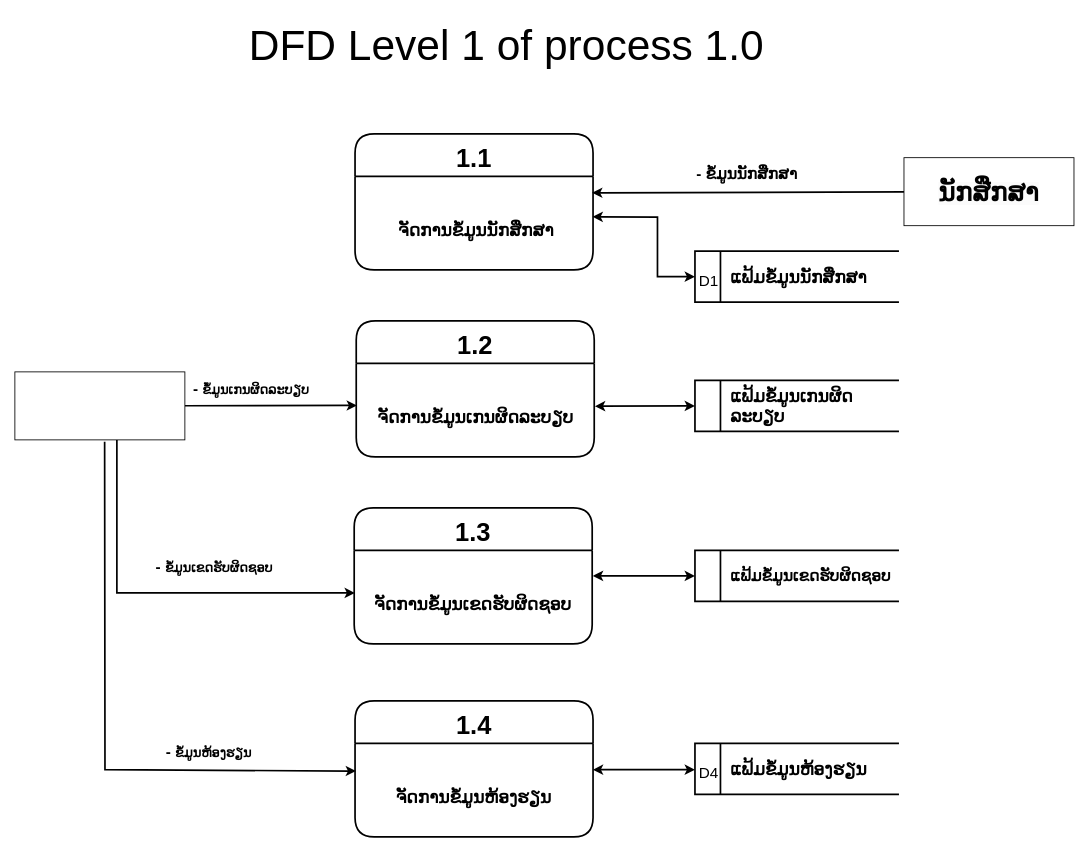
Some shapes in this 1089 by 859 pixel diagram are drawn without their labels. The shapes that lost their labels are listed below. From the top down, each one's box as (x1, y1, x2, y2) in pixels, then its label:
(14, 371, 185, 440): ໜ່ວຍງານບໍລິຫານ
(694, 379, 899, 432): D2
(694, 549, 899, 602): D3
